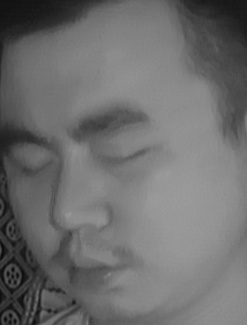blink: (98, 136, 154, 176), (14, 149, 56, 184)
mouth: (61, 239, 128, 294)
